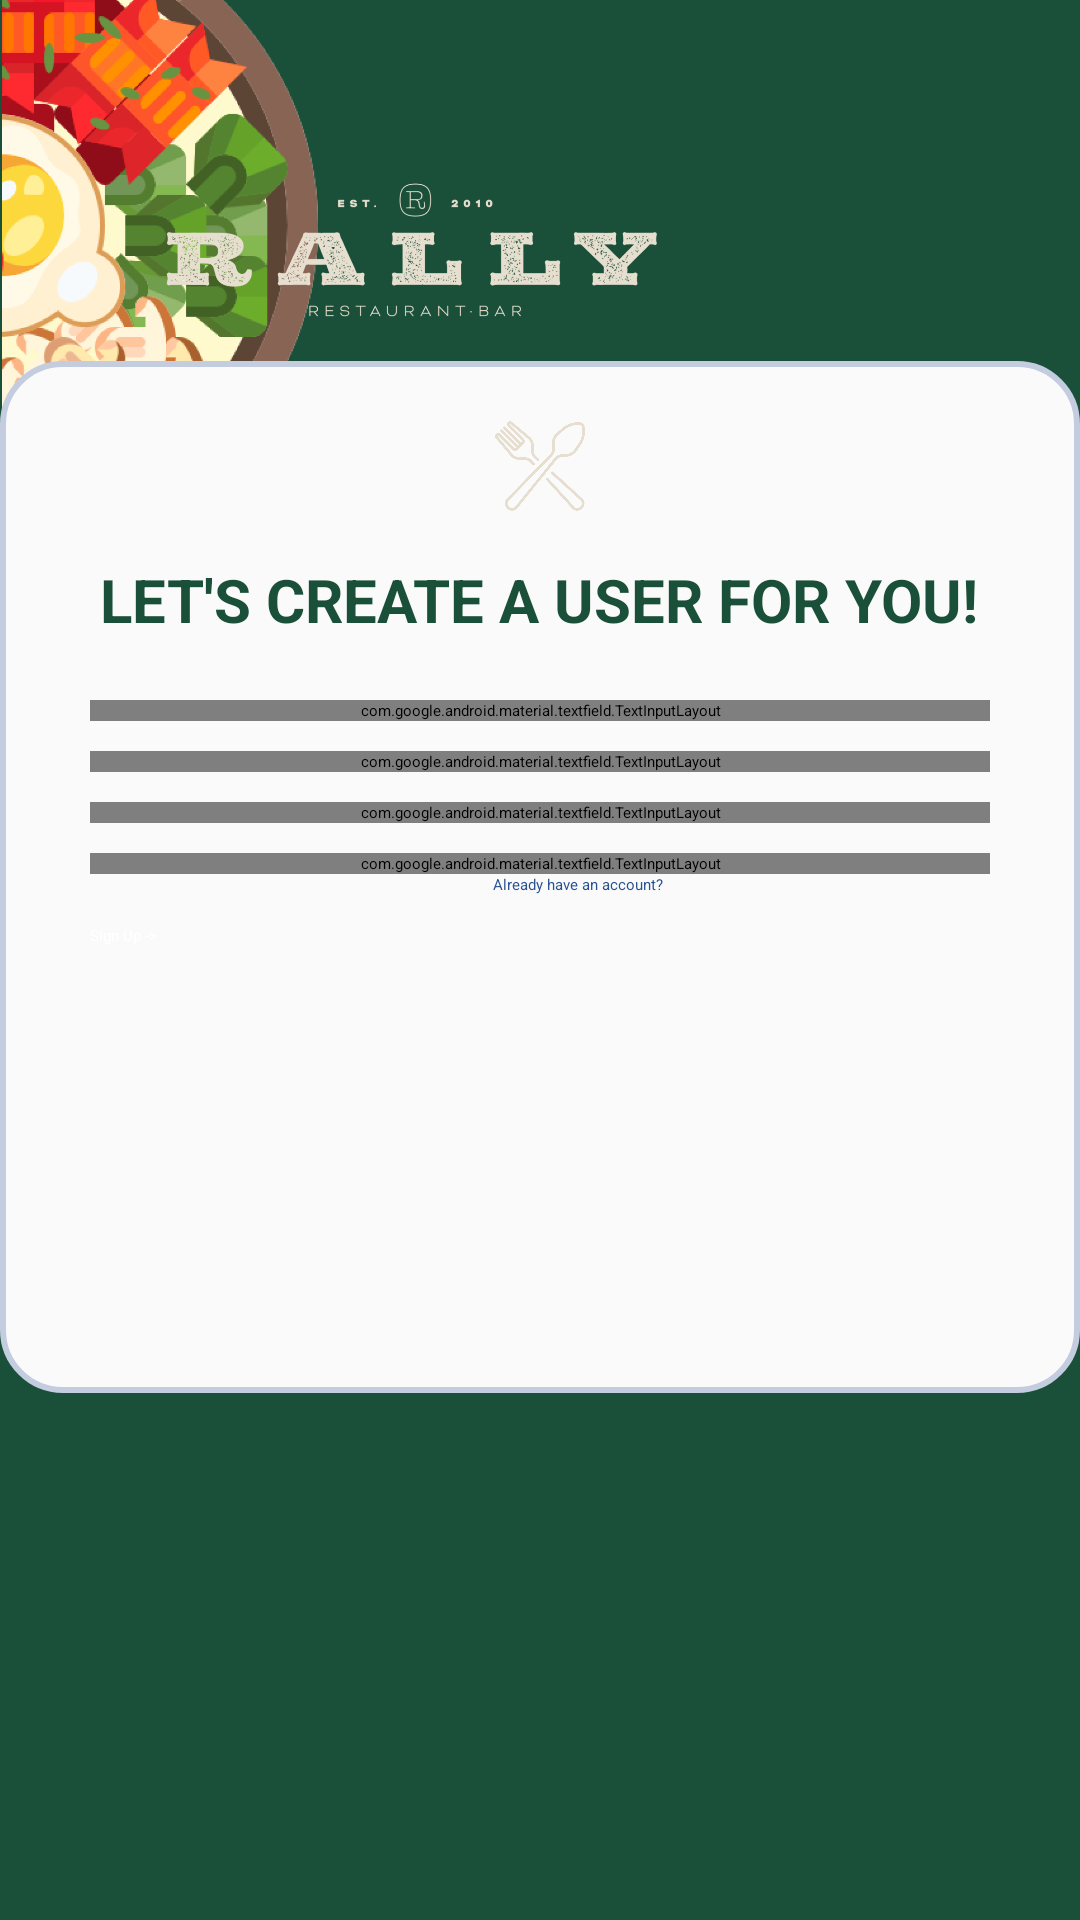

Screen size 1080px x 1920px. Icon name, then its center in pixels as [x,y]:
fork: [540,466]
